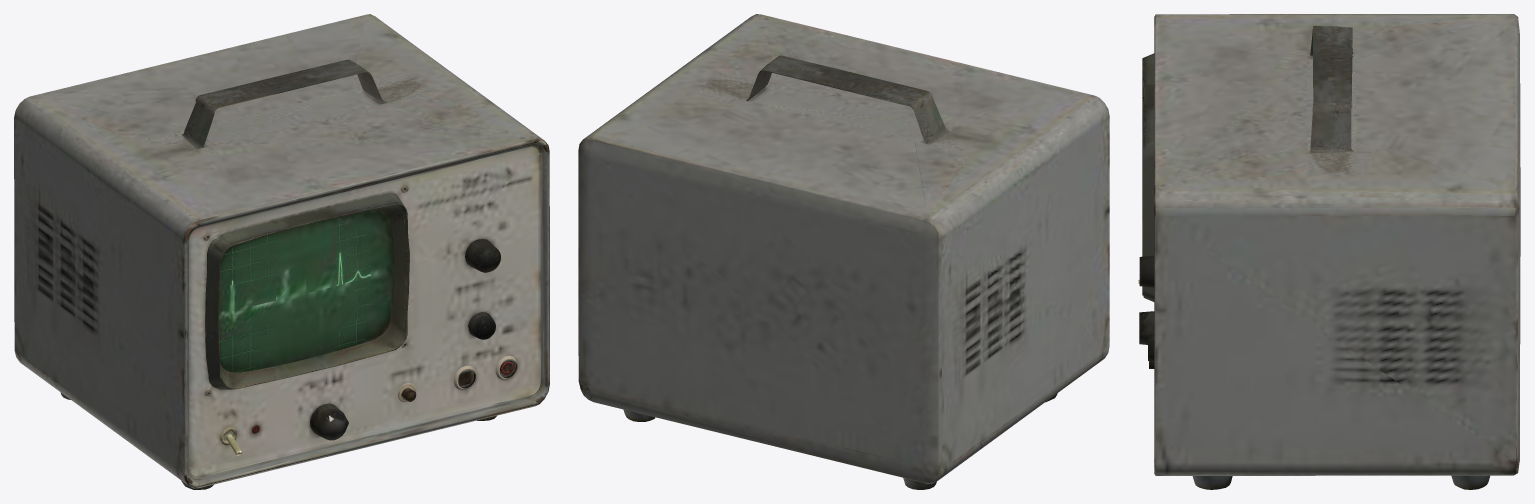
The model's file is epi_monitor.glb.
The picture shows the model from 3 angles, left to right: view 1: azimuth 30°, elevation 25°; view 2: azimuth 150°, elevation 25°; view 3: azimuth 270°, elevation 25°; orthographic projection. The views are drawn at different scales.
Parts seen in each view (by area): view 1: Mesh_0; view 2: Mesh_0; view 3: Mesh_0.
Boxes of the visible parts, box(x1,y1,x2,y2) form: Mesh_0: box(14, 14, 549, 489); Mesh_0: box(578, 14, 1109, 489); Mesh_0: box(1138, 14, 1520, 489).
Bounding box in the file's own units: 0.45 × 0.3813 × 0.3829.
1 material, 1 textured.
